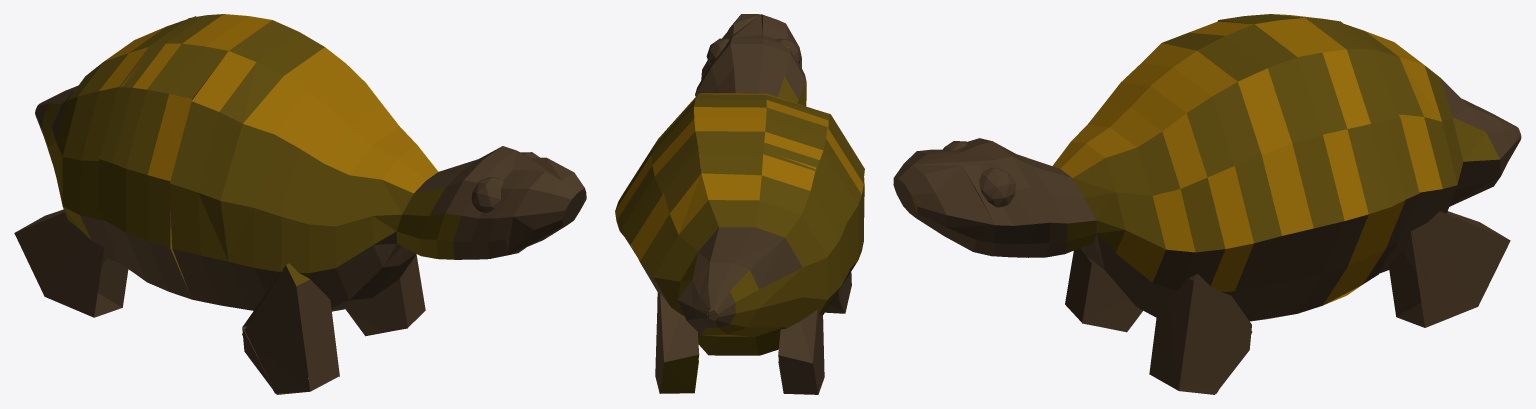
Rendered from forest_turtle.fbx.
The picture shows the model from 3 angles, left to right: view 1: azimuth 30°, elevation 25°; view 2: azimuth 150°, elevation 25°; view 3: azimuth 270°, elevation 25°; orthographic projection. The views are drawn at different scales.
Visible parts, largest first — view 1: Turtle; view 2: Turtle; view 3: Turtle.
Boxes of the visible parts, x1=… form: Turtle: x1=14, y1=14, x2=586, y2=394; Turtle: x1=615, y1=14, x2=864, y2=394; Turtle: x1=893, y1=14, x2=1521, y2=394.
Size of the model in its own units: 210 by 171 by 325.
